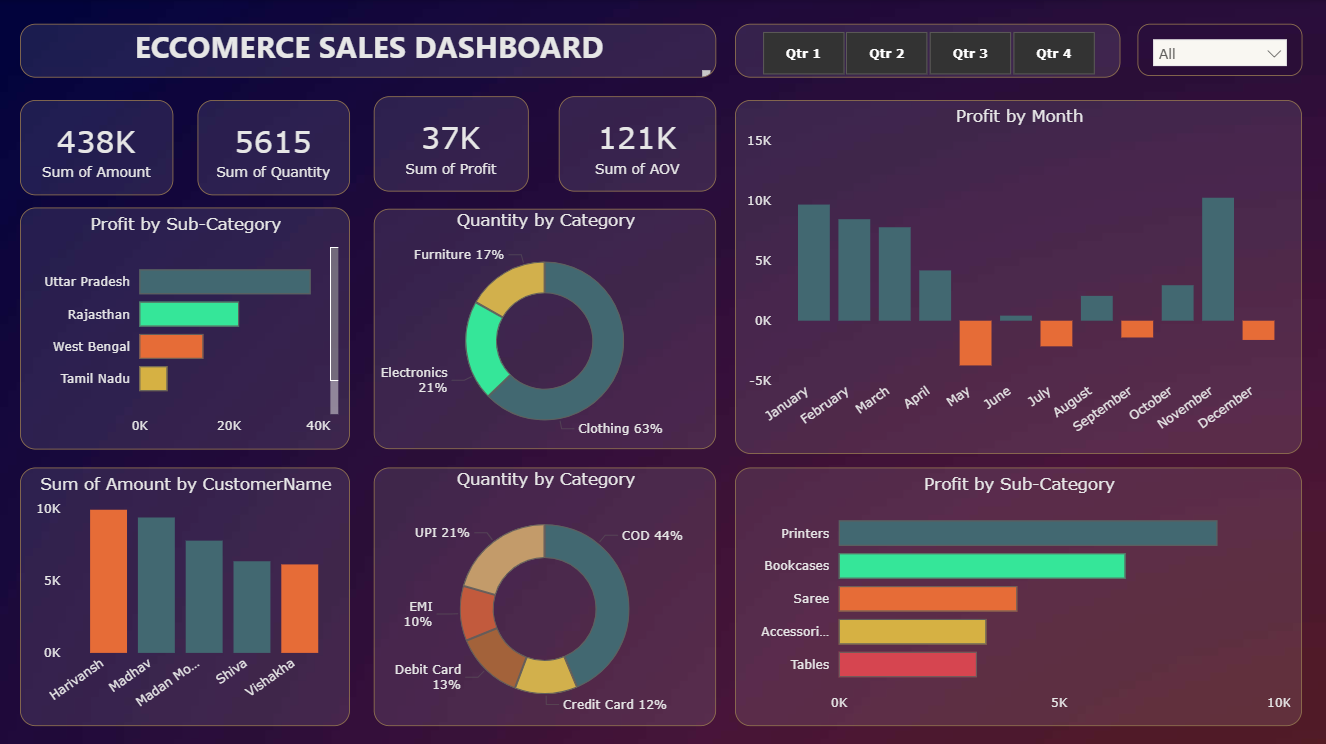

The page's visual inventory and layout, read from the dashboard file:
{"tool":"powerbi","page":{"name":"Page 1","canvas":[1280,720],"ordinal":0},"visuals":[{"type":"textbox","title":"ECCOMERCE SALES DASHBOARD","box":[19.2,23.3,672.4,52.1],"z":0},{"type":"columnChart","title":"Profit by Month","fields":{"Y":["Details.Profit"],"Category":["Orders.Order Date.Variation.Date Hierarchy.Month"]},"box":[709.4,96.1,547.5,341.7],"z":1000},{"type":"barChart","title":" Profit by Sub-Category","fields":{"Category":["Details.Sub-Category"],"Y":["Details.Profit"]},"box":[709.4,451.5,547.5,249.7],"z":2000},{"type":"donutChart","title":"Quantity by Category","fields":{"Category":["Details.Category"],"Y":["Details.Quantity"]},"box":[360.9,201.7,330.7,231.9],"z":3000},{"type":"donutChart","title":"Quantity by Category","fields":{"Y":["Details.Quantity"],"Series":["Details.PaymentMode"]},"box":[360.9,451.5,330.7,249.7],"z":4000},{"type":"card","fields":{"Values":["Details.Amount"]},"box":[19.2,96.1,148.2,91.9],"z":5000},{"type":"card","fields":{"Values":["Details.Quantity"]},"box":[190.7,96.1,146.8,91.9],"z":6000},{"type":"card","fields":{"Values":["Details.Profit"]},"box":[360.9,93.3,149.6,91.9],"z":7000},{"type":"card","fields":{"Values":["Details.AOV"]},"box":[539.3,93.3,152.3,91.9],"z":8000},{"type":"barChart","title":" Profit by Sub-Category","fields":{"Category":["Orders.State"],"Y":["Details.Amount"]},"box":[19.2,200.3,318.4,233.3],"z":9000},{"type":"columnChart","fields":{"Category":["Orders.CustomerName"],"Y":["Details.Amount"]},"box":[19.2,451.5,318.4,249.7],"z":10000},{"type":"slicer","fields":{"Values":["Orders.Order Date.Variation.Date Hierarchy.Quarter"]},"box":[709.4,23.3,371.9,52.1],"z":11000},{"type":"slicer","fields":{"Values":["Orders.State"]},"box":[1097.8,23.3,159.2,50.8],"z":12000}]}

Visuals, with their boxes in screenshot pixels (x1, y1, x2, y2), scaled from the page's 1280x720 canvas onto the 1326x744 screenshot:
"ECCOMERCE SALES DASHBOARD" textbox: (20,24,716,78)
"Profit by Month" columnChart: (735,99,1302,452)
" Profit by Sub-Category" barChart: (735,467,1302,725)
"Quantity by Category" donutChart: (374,208,716,448)
"Quantity by Category" donutChart: (374,467,716,725)
card - Details.Amount: (20,99,173,194)
card - Details.Quantity: (198,99,350,194)
card - Details.Profit: (374,96,529,191)
card - Details.AOV: (559,96,716,191)
" Profit by Sub-Category" barChart: (20,207,350,448)
columnChart - Orders.CustomerName x Details.Amount: (20,467,350,725)
slicer - Orders.Order Date.Variation.Date Hierarchy.Quarter: (735,24,1120,78)
slicer - Orders.State: (1137,24,1302,77)
